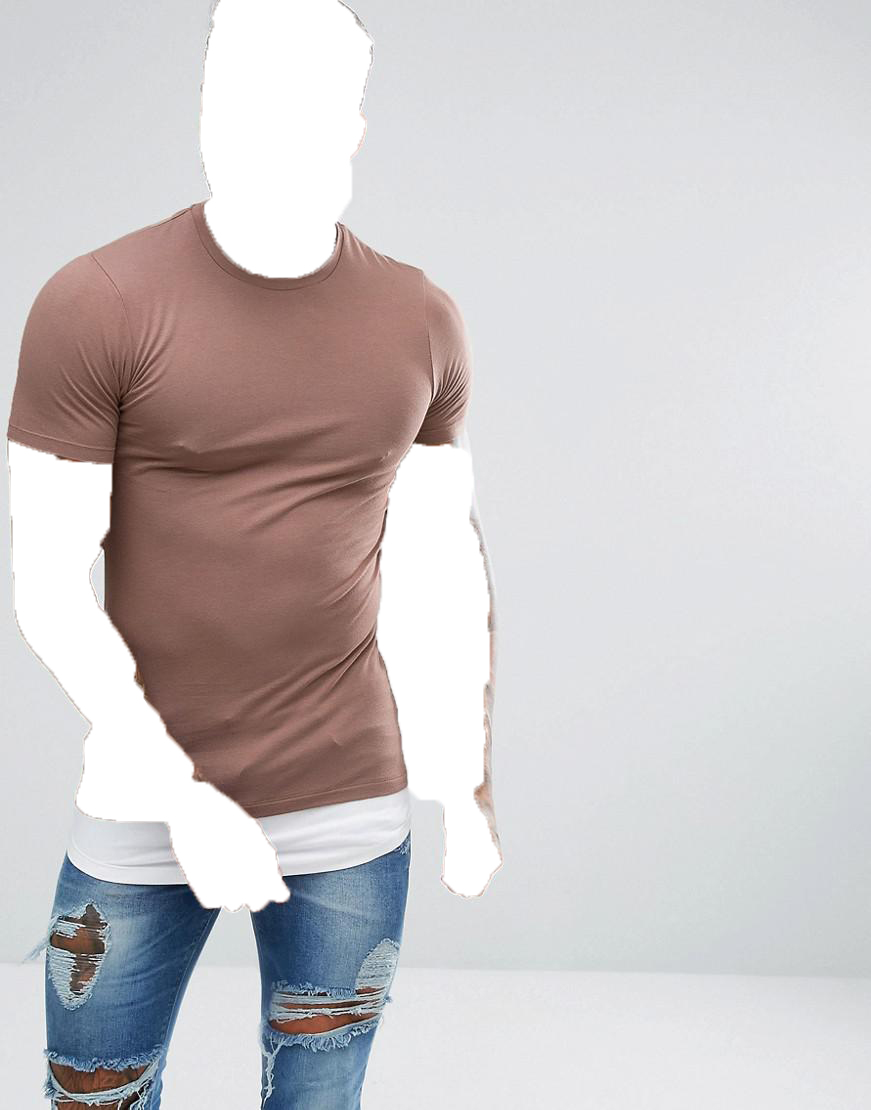teeshirt: (3, 207, 501, 805)
